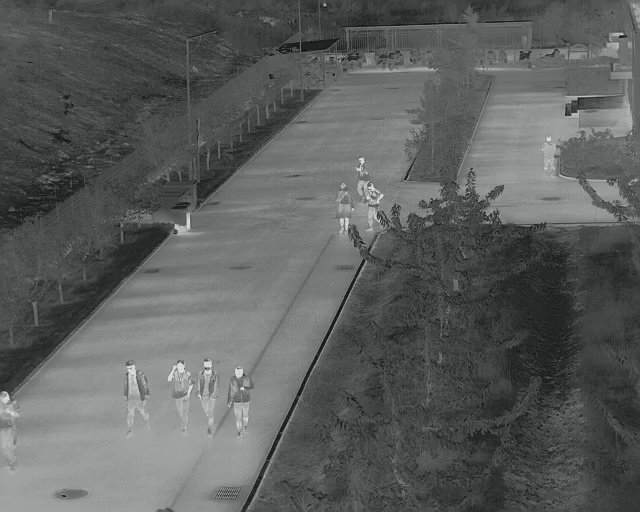person: (124, 355, 154, 437), (168, 358, 194, 436), (228, 365, 255, 439), (1, 392, 19, 474), (199, 356, 216, 436), (333, 181, 354, 229), (366, 183, 384, 225), (541, 133, 559, 174), (354, 155, 369, 196)
